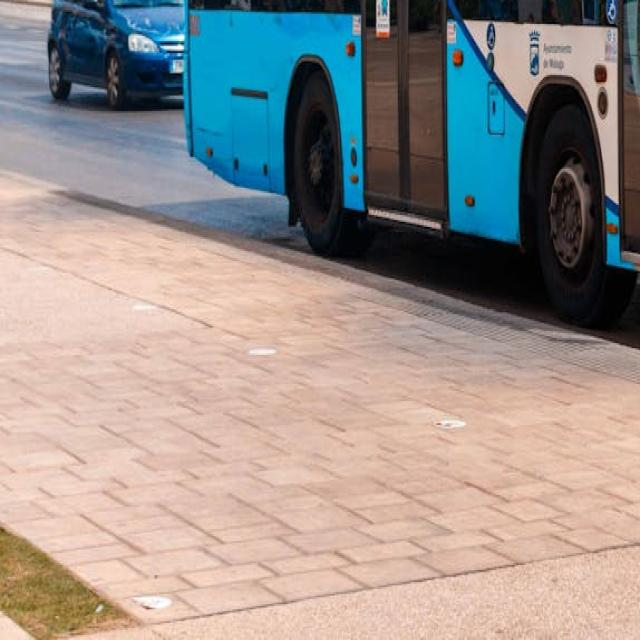bus: (180, 0, 640, 324)
car: (46, 0, 183, 106)
